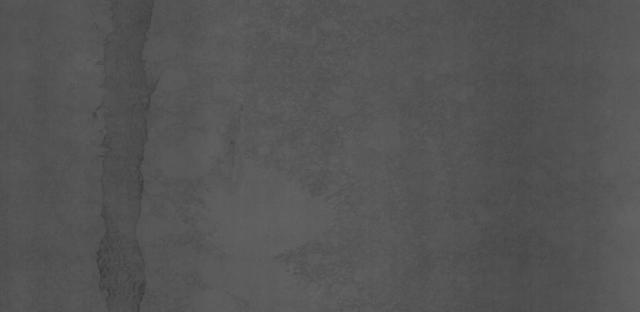water_spot: (84, 6, 176, 308)
